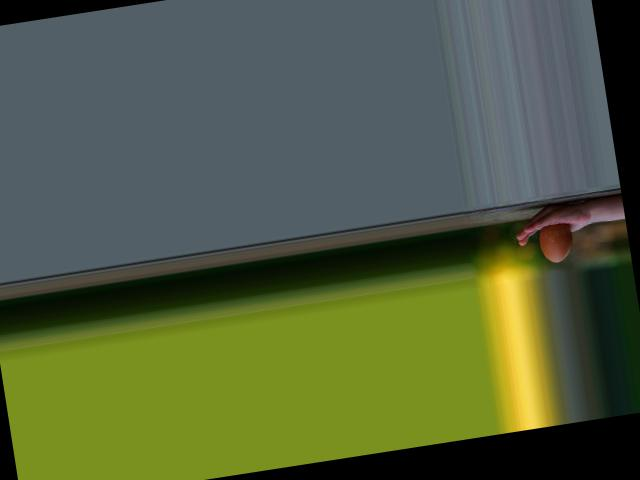egg: (538, 221, 577, 264)
